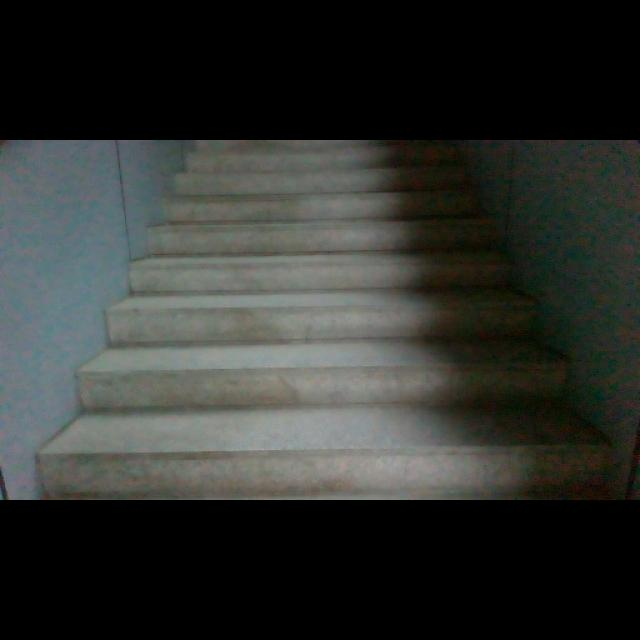stair: (50, 136, 605, 499)
